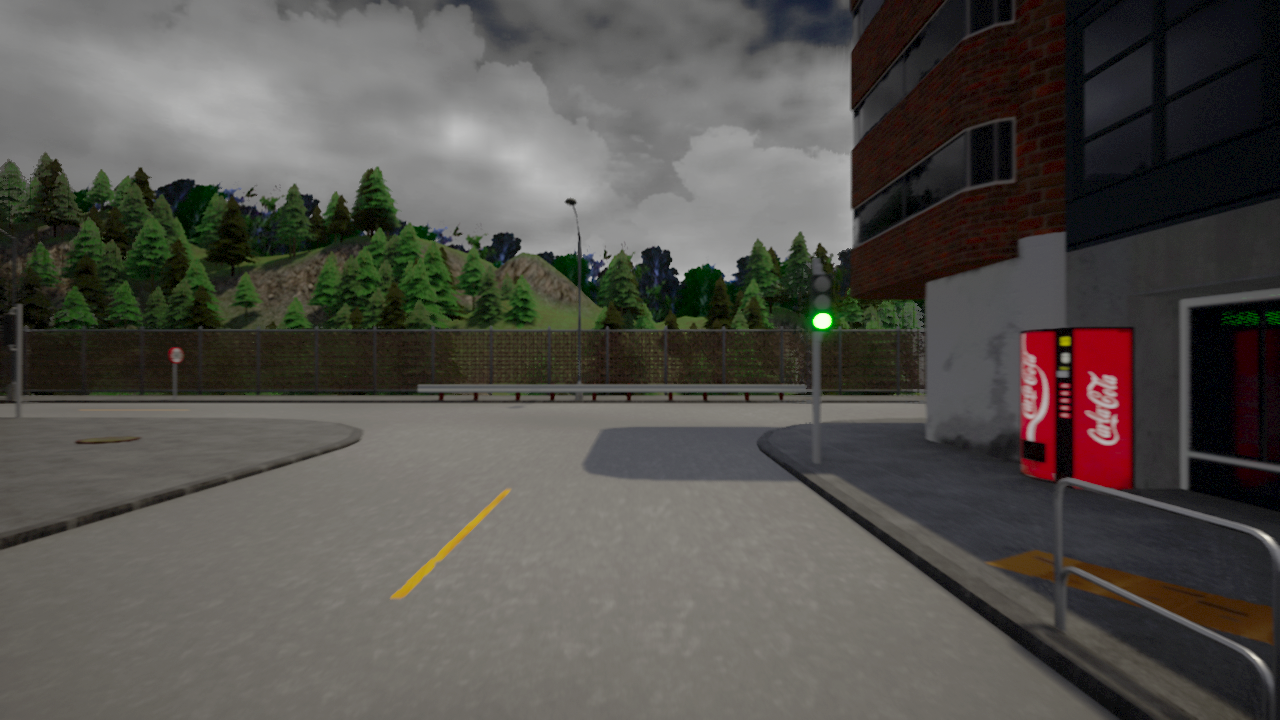green: (809, 274, 836, 331)
